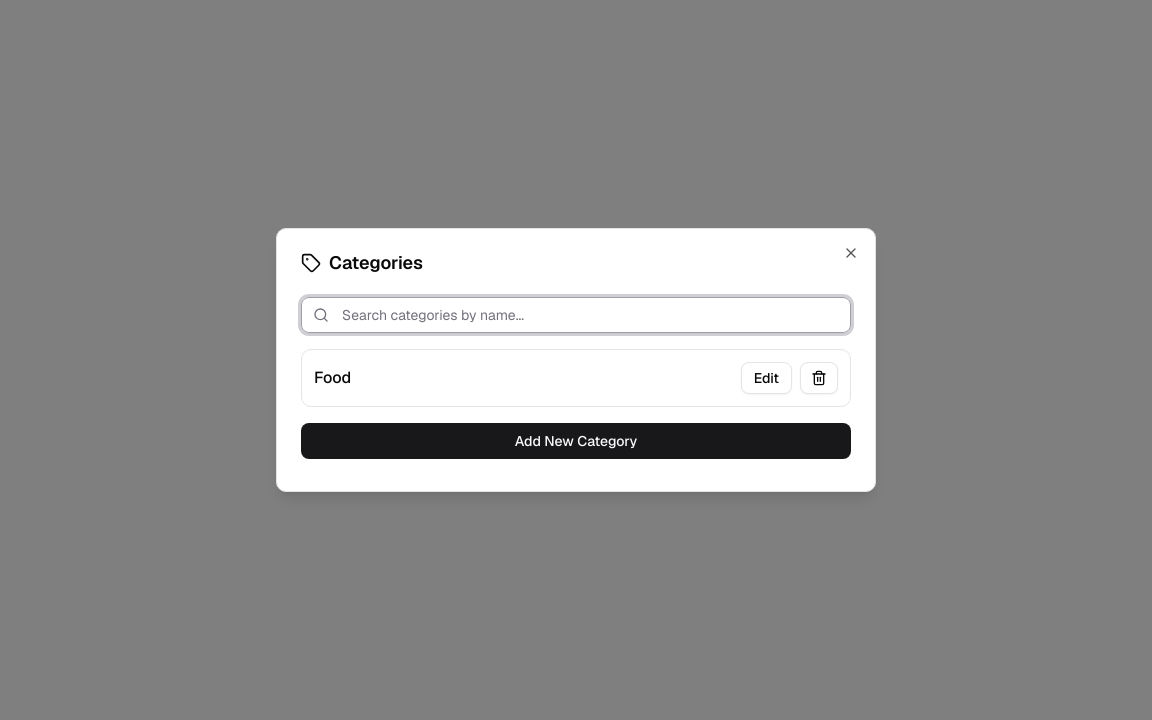
it: ViewCategoriesModal › closes the edit and delete dialogs
This screenshot has width=1152, height=720.
Expected: the text "Food" is shown, left=314, top=366, right=351, bottom=390
Click the button "Edit" at (766, 378), box left=741, top=362, right=792, bottom=394
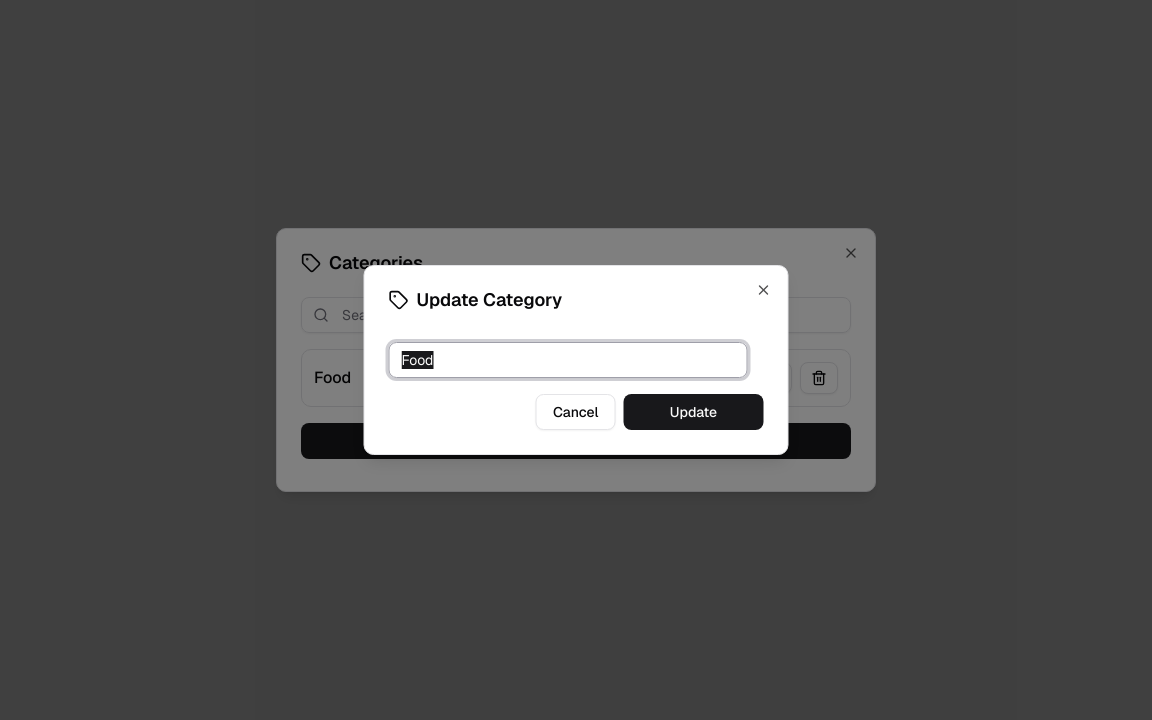
Expected: the dialog "Update Category" is shown, left=364, top=265, right=788, bottom=455
Press Escape
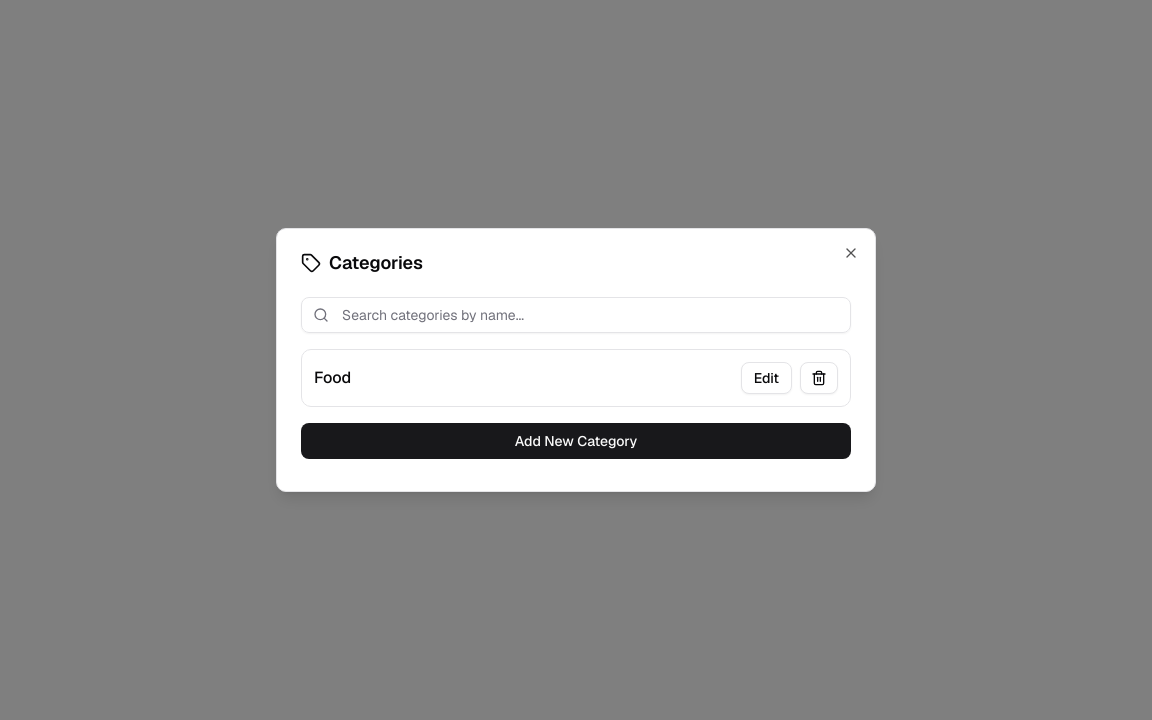
Expected: the heading "Update Category" is gone
Click the button named "Delete" in the row of "Food" at (819, 378), box left=800, top=362, right=838, bottom=394
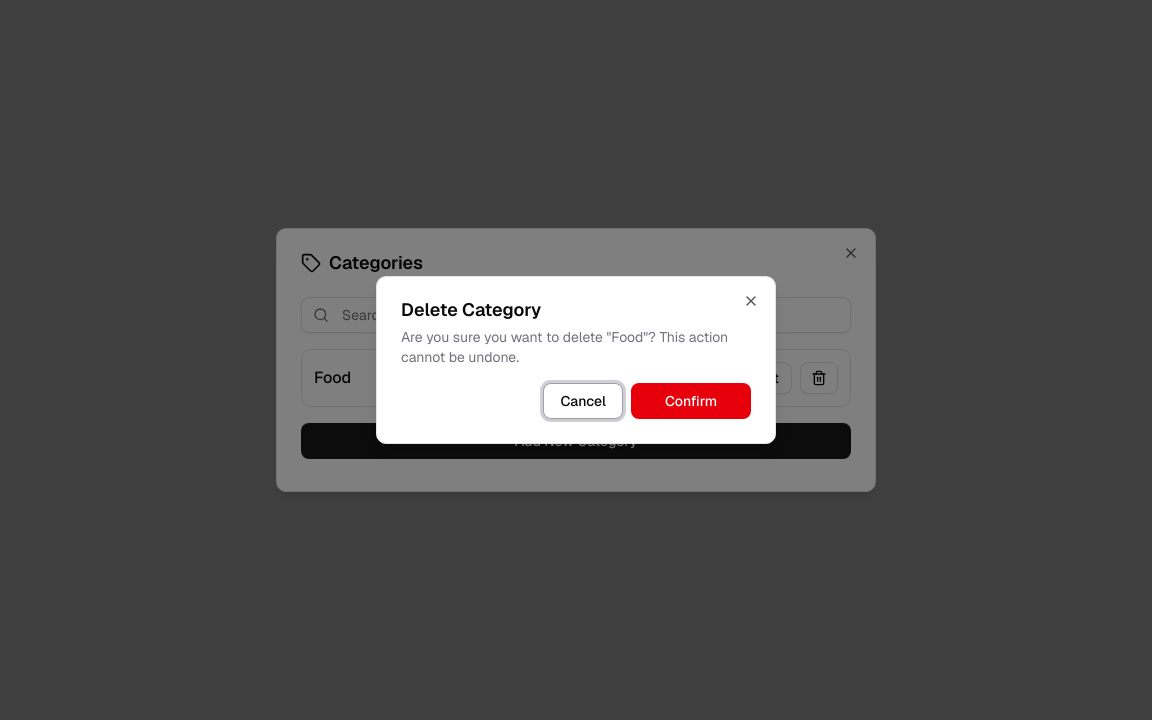
Click the button "Cancel" at (583, 401), box left=543, top=383, right=623, bottom=419
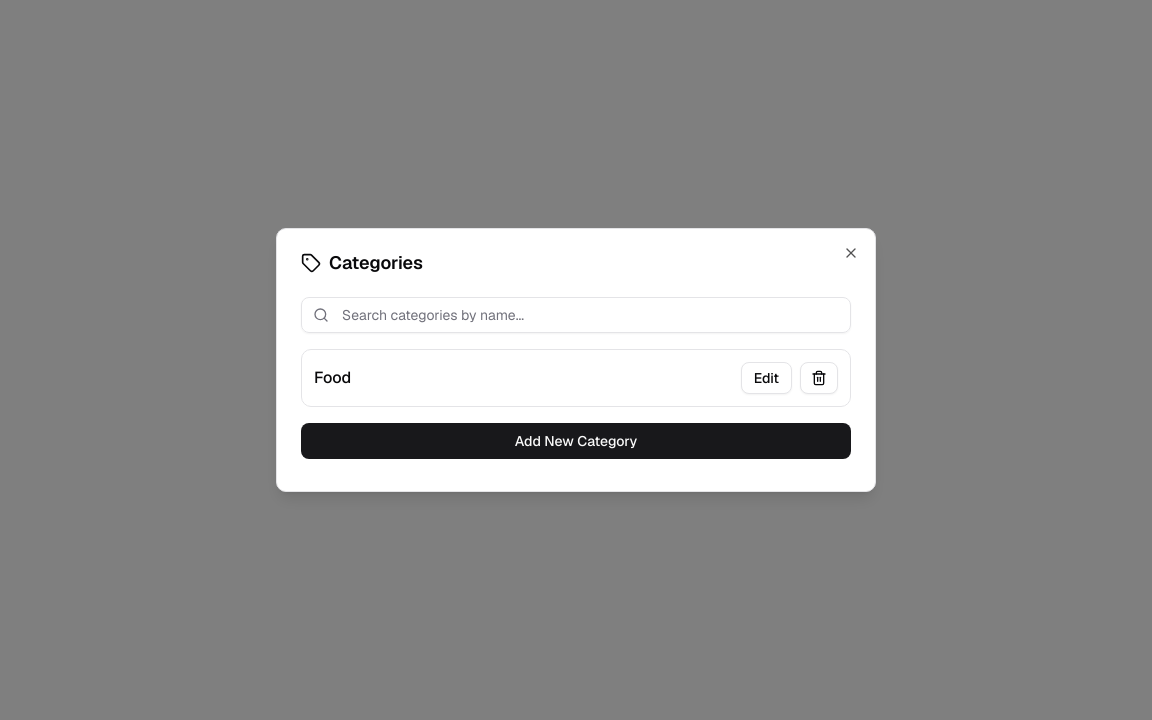
Expected: the heading "Delete Category" is gone
